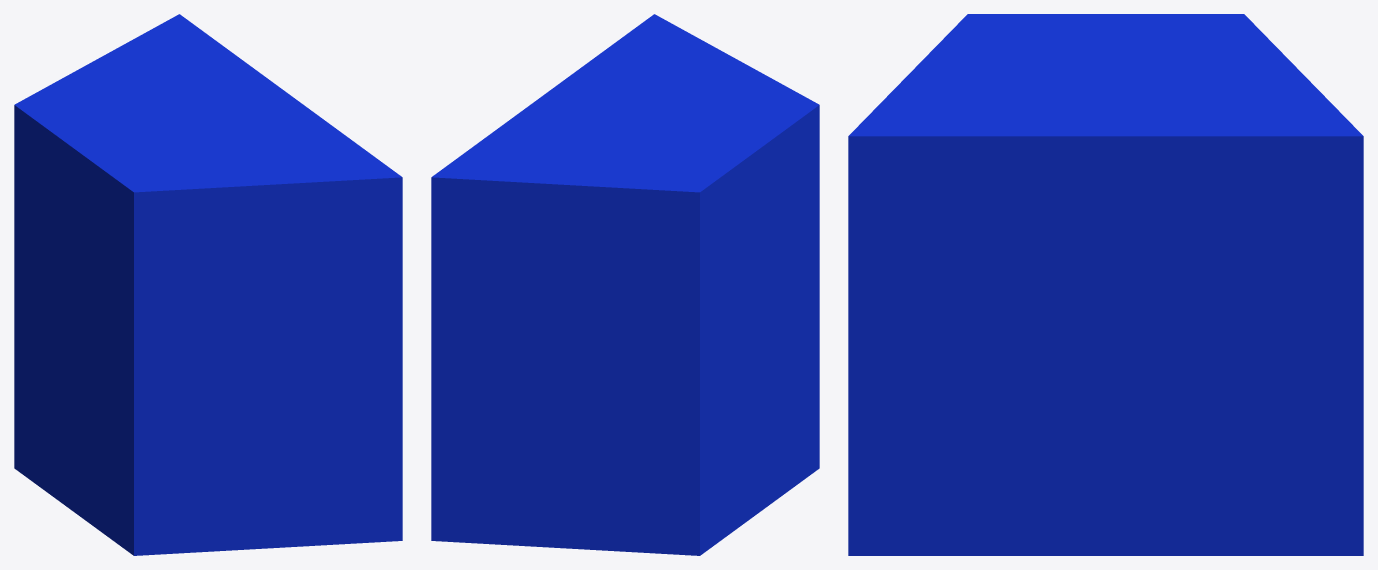
File: trapezoid1.glb
3 renders of one model, left to right at view 1: azimuth 30°, elevation 25°; view 2: azimuth 150°, elevation 25°; view 3: azimuth 270°, elevation 25°, orthographic. The views are drawn at different scales.
Visible parts, largest first — view 1: Cube.001; view 2: Cube.001; view 3: Cube.001.
Part boxes in pixels (bbox=[...]): Cube.001: bbox=[14, 14, 402, 555]; Cube.001: bbox=[431, 14, 819, 555]; Cube.001: bbox=[848, 14, 1363, 555].
Bounding box in the file's own units: 1.65 × 2.64 × 2.94.
